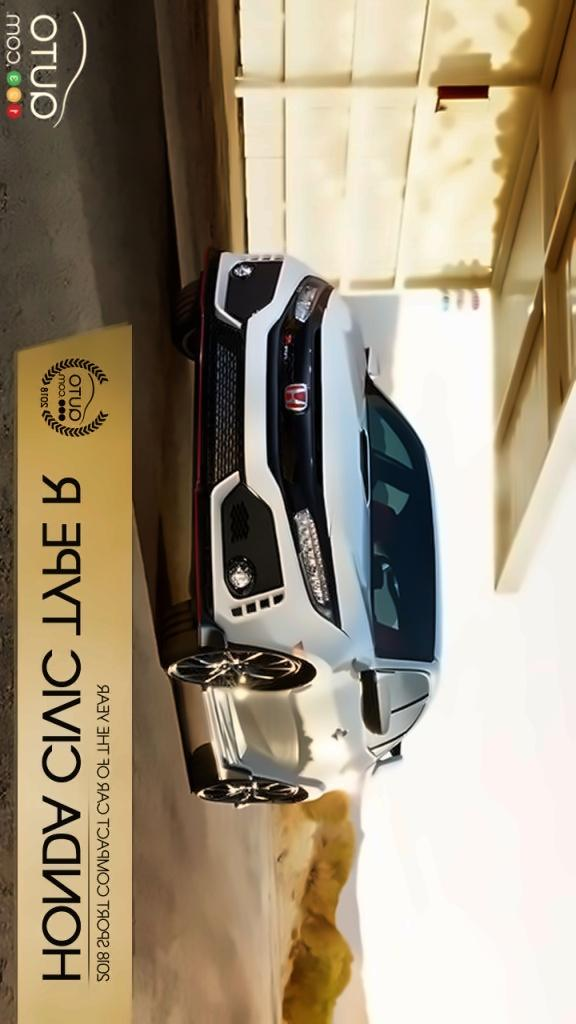Car hood: (318, 283, 373, 644)
Fender - -F-L-: (215, 614, 378, 698)
Front bumper: (189, 239, 306, 660)
Headlight - -L-: (285, 499, 345, 628)
Headlight - -R-: (285, 267, 333, 331)
Passenger-s door - -F-L-: (211, 660, 444, 735)
Passenger-s door - -R-L-: (221, 703, 441, 786)
Side bumper - -L-: (166, 676, 235, 801)
Side mirror - -L-: (356, 662, 398, 741)
Side mirror - -R-: (356, 334, 398, 383)
